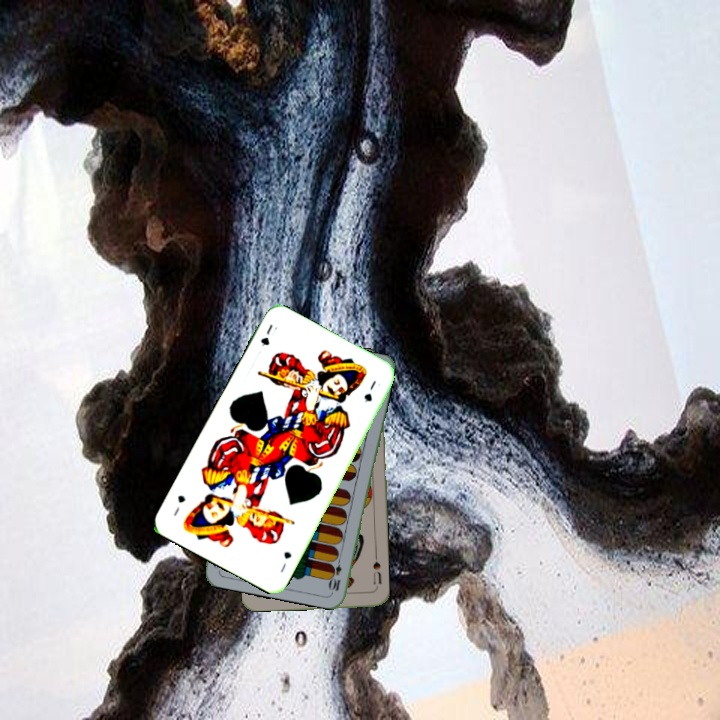E10: (327, 553, 345, 593)
GU: (256, 320, 275, 349), (276, 547, 294, 575)
SU: (369, 552, 384, 592)
